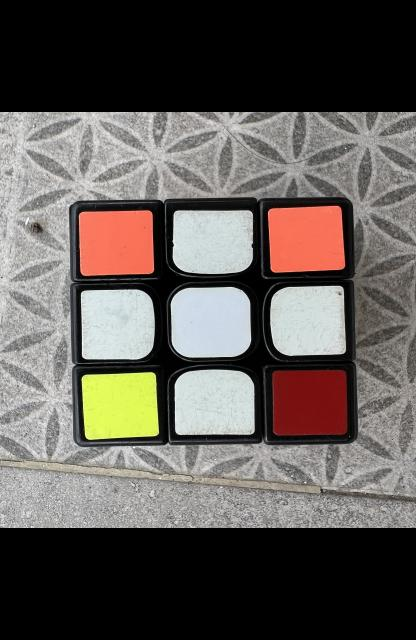Orange: (267, 206, 344, 272), (78, 211, 153, 276)
Red: (272, 370, 347, 436)
White: (169, 286, 250, 358), (269, 285, 346, 356), (173, 370, 254, 435), (79, 290, 154, 360), (172, 211, 252, 274)
Yellow: (80, 372, 158, 440)
